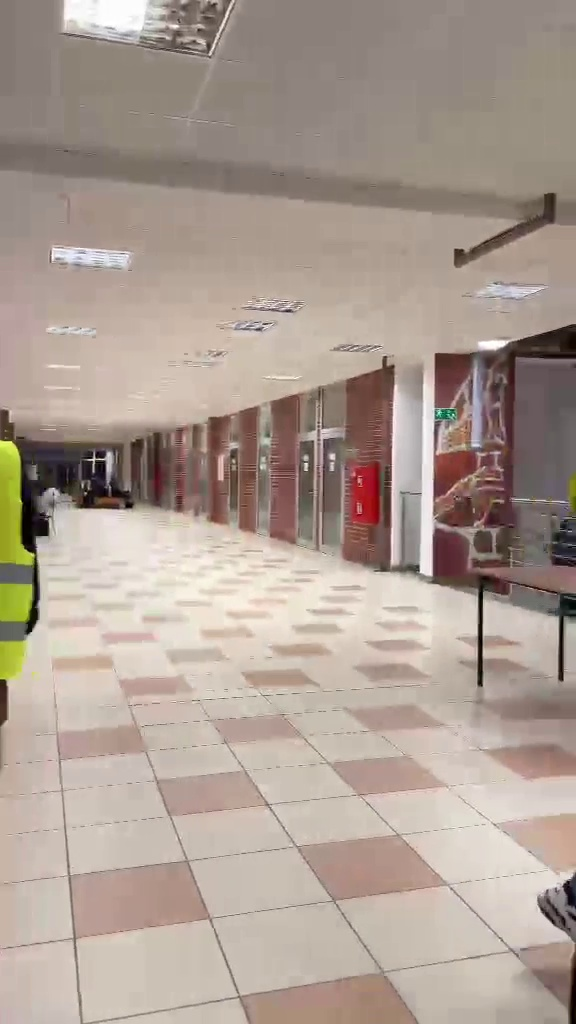vest: (0, 418, 42, 940)
